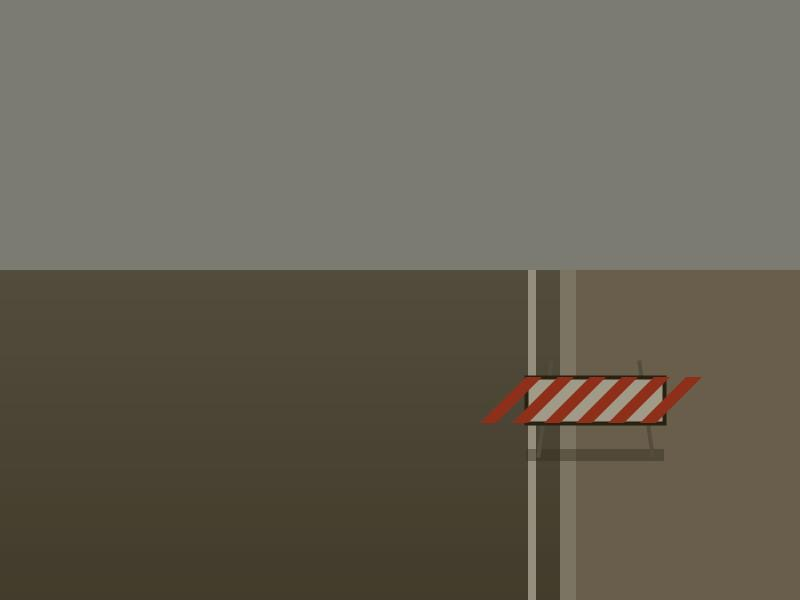ROAD_OBSTACLE: (526, 352, 664, 455)
